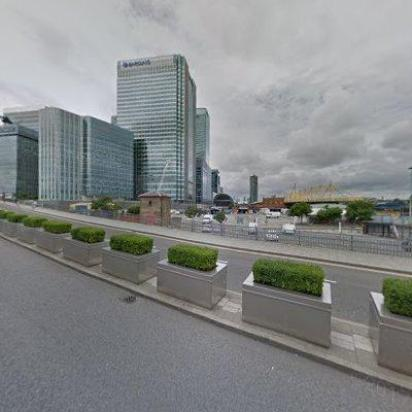moving-light-truck: (266, 211, 282, 219)
stationary-light-truck-offstreet: (280, 223, 296, 235), (264, 229, 280, 240), (202, 214, 214, 224), (249, 221, 257, 229)
